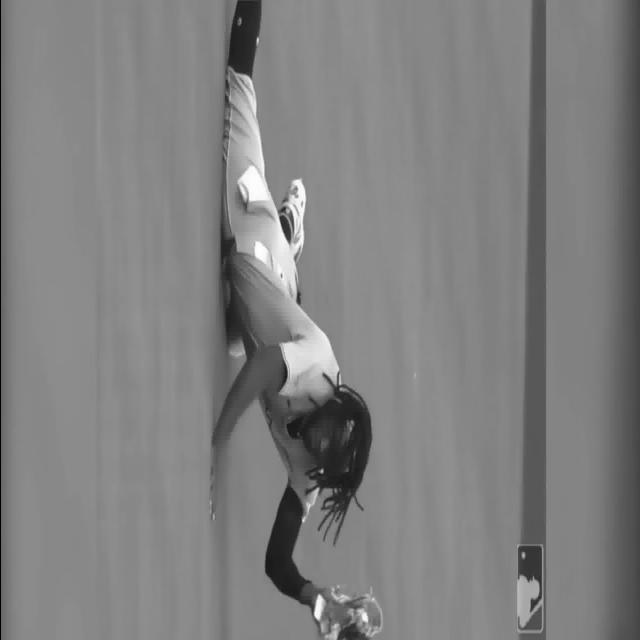baseball: (354, 609, 368, 631)
baseball_glove: (319, 595, 384, 640)
shoe: (286, 173, 310, 269)
